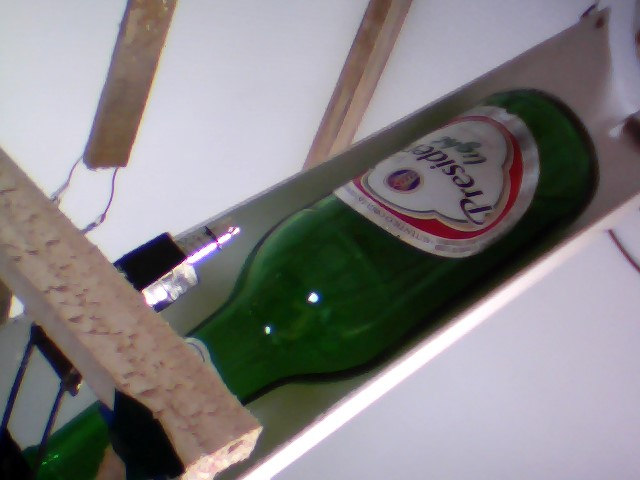vidrio: (164, 80, 605, 406)
